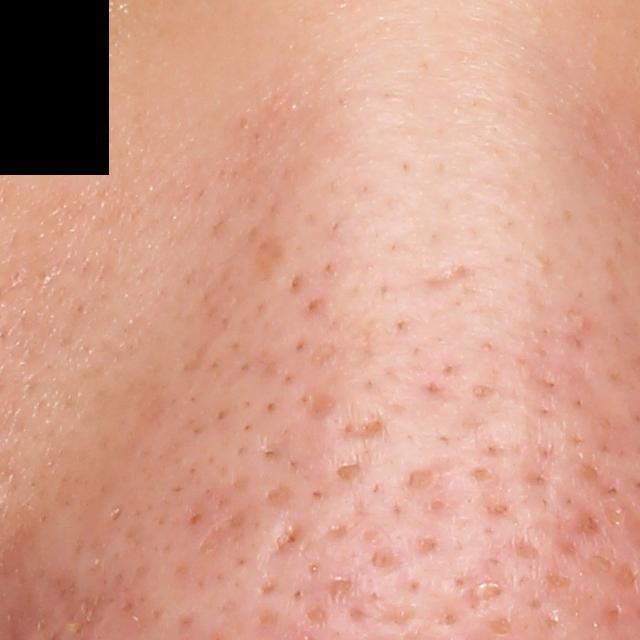atrophic_scar: (464, 553, 510, 616), (332, 404, 385, 444), (264, 518, 305, 563), (421, 260, 475, 290), (311, 385, 341, 423)
